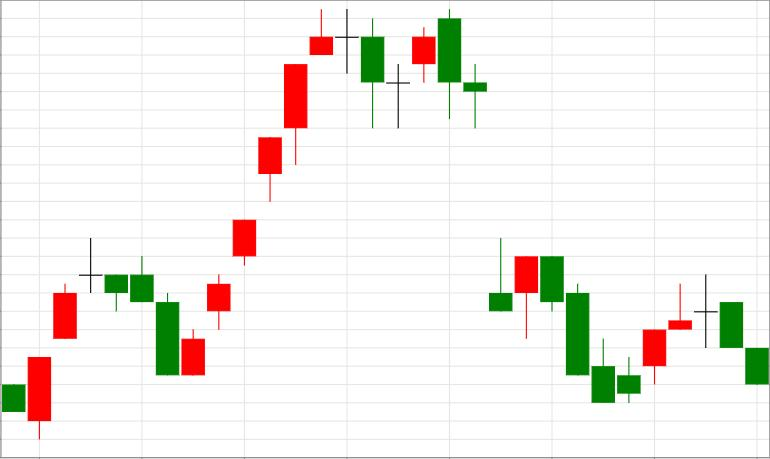evening_star_fall: (181, 8, 384, 376), (2, 238, 128, 440)
hammer_rise: (438, 9, 538, 340)
